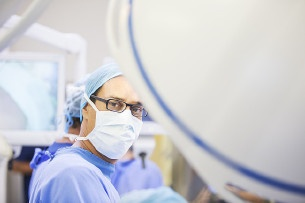Mask: (91, 93, 152, 154)
